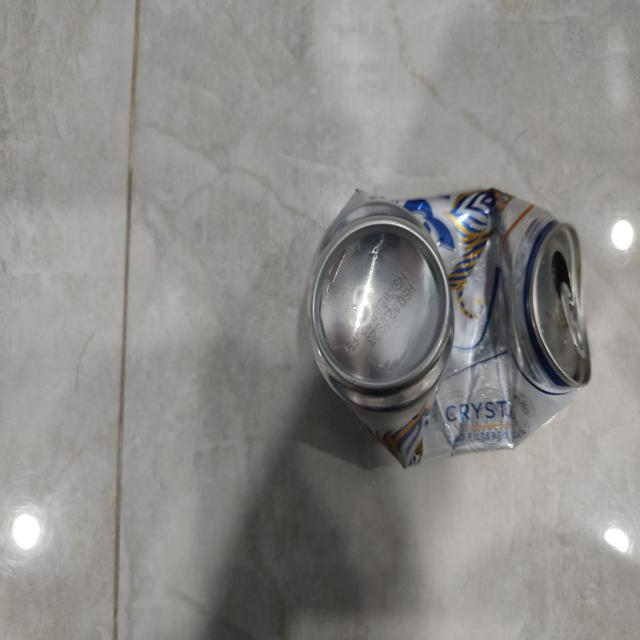kim_loai: (308, 188, 592, 467)
